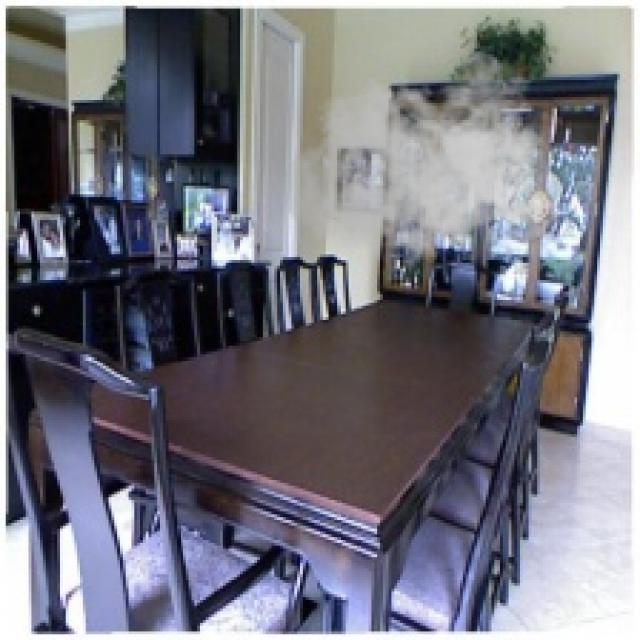Smoke: (283, 51, 563, 283)
